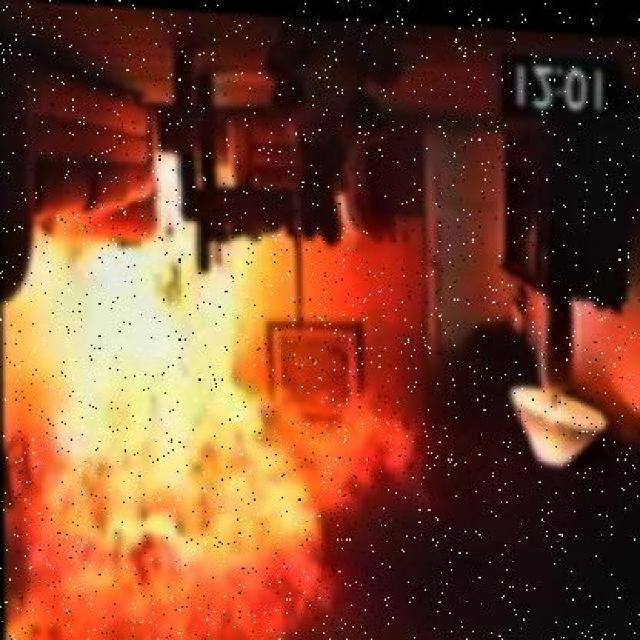fire: (1, 182, 297, 640)
